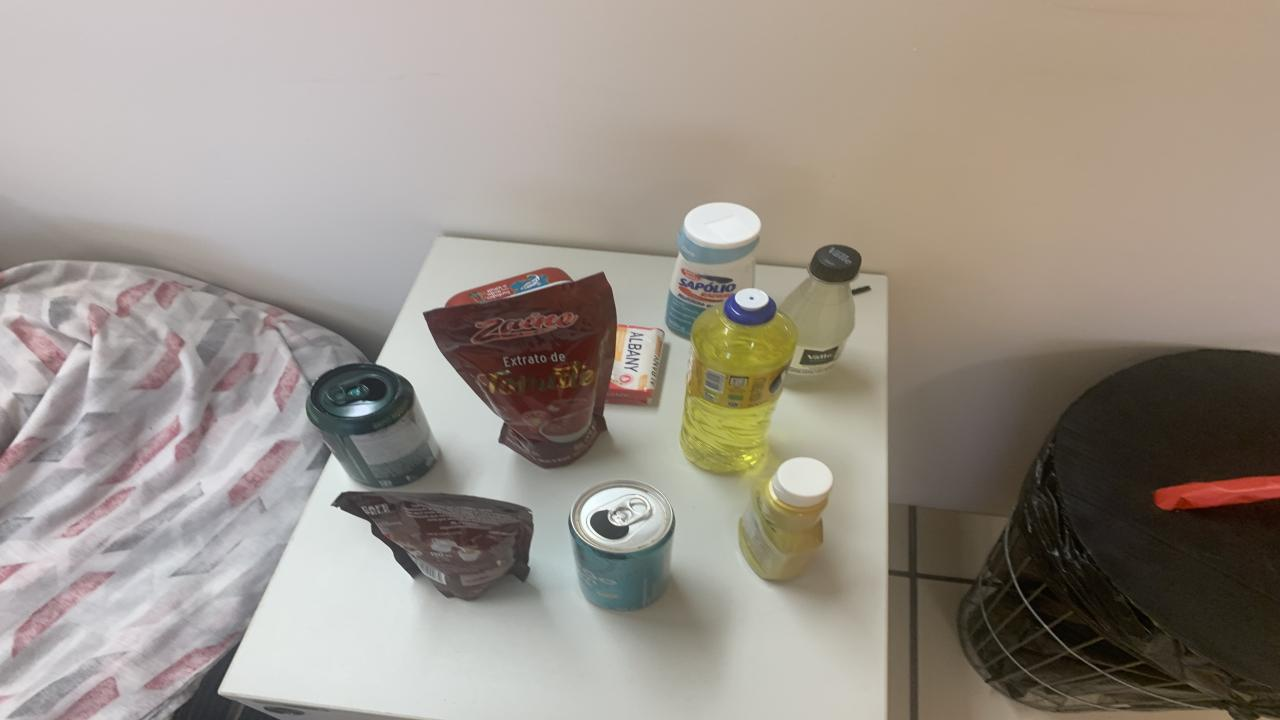Cleaner-Cleanup_Items: (665, 202, 760, 338)
Coffee-Pantry_Items: (332, 491, 532, 600)
Detergent-Cleanup_Items: (680, 289, 798, 472)
Guarana_Can-Drinks: (305, 364, 440, 488)
Mustard-Pantry_Items: (740, 458, 832, 579)
Soap-Cleanup_Items: (605, 324, 665, 405)
Soda-Drinks: (782, 246, 860, 377)
Tea-Drinks: (570, 480, 675, 611)
Tomato_Sauce-Pantry_Items: (425, 274, 618, 469)
Tuna_Can-Pantry_Items: (445, 268, 572, 308)
